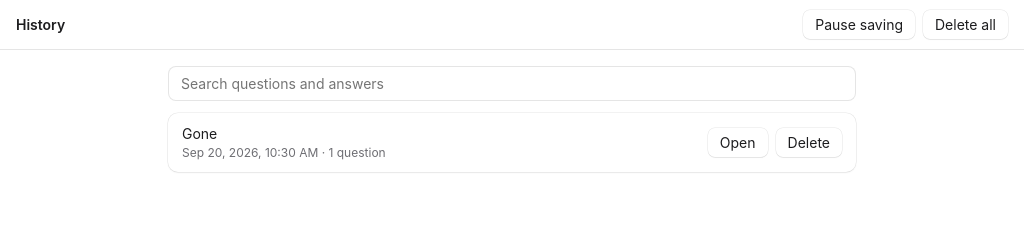
Test: opening a chat that is gone says so and refreshes the list
Expected: the list item is shown, [182,125,842,160]
Click the button "Open" at (738, 142), box [708,128,768,157]
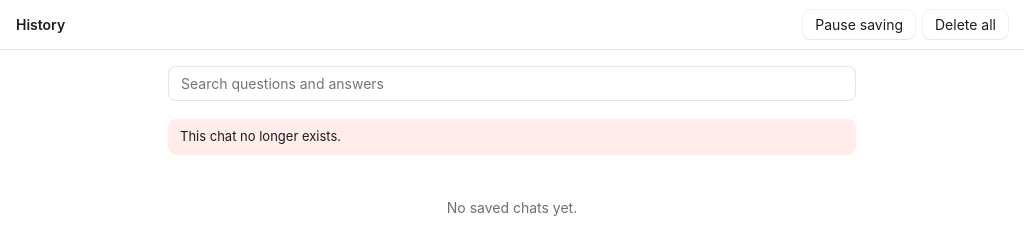
Result: the message reads "This chat no longer exists." at [180,128,341,144]
Result: the list item "Gone Sep 20, 2026, 10:30 AM · 1 question Open Delete" is gone
